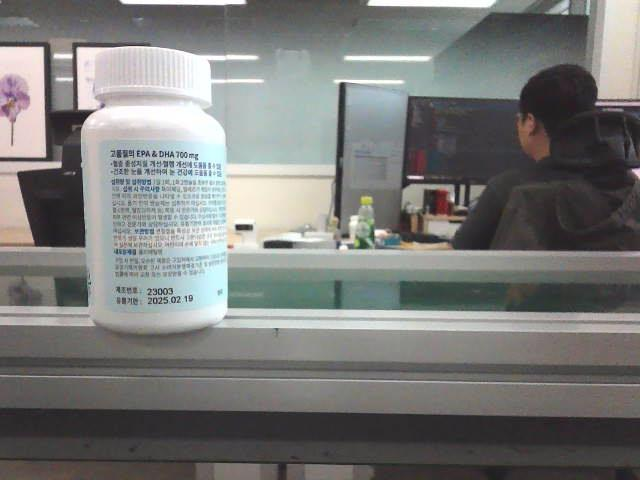labeled: (77, 47, 234, 341)
